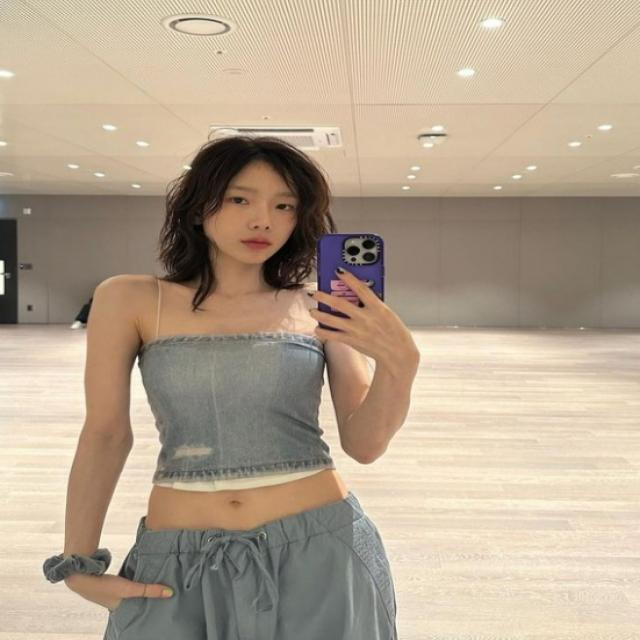phone: (318, 234, 386, 336)
